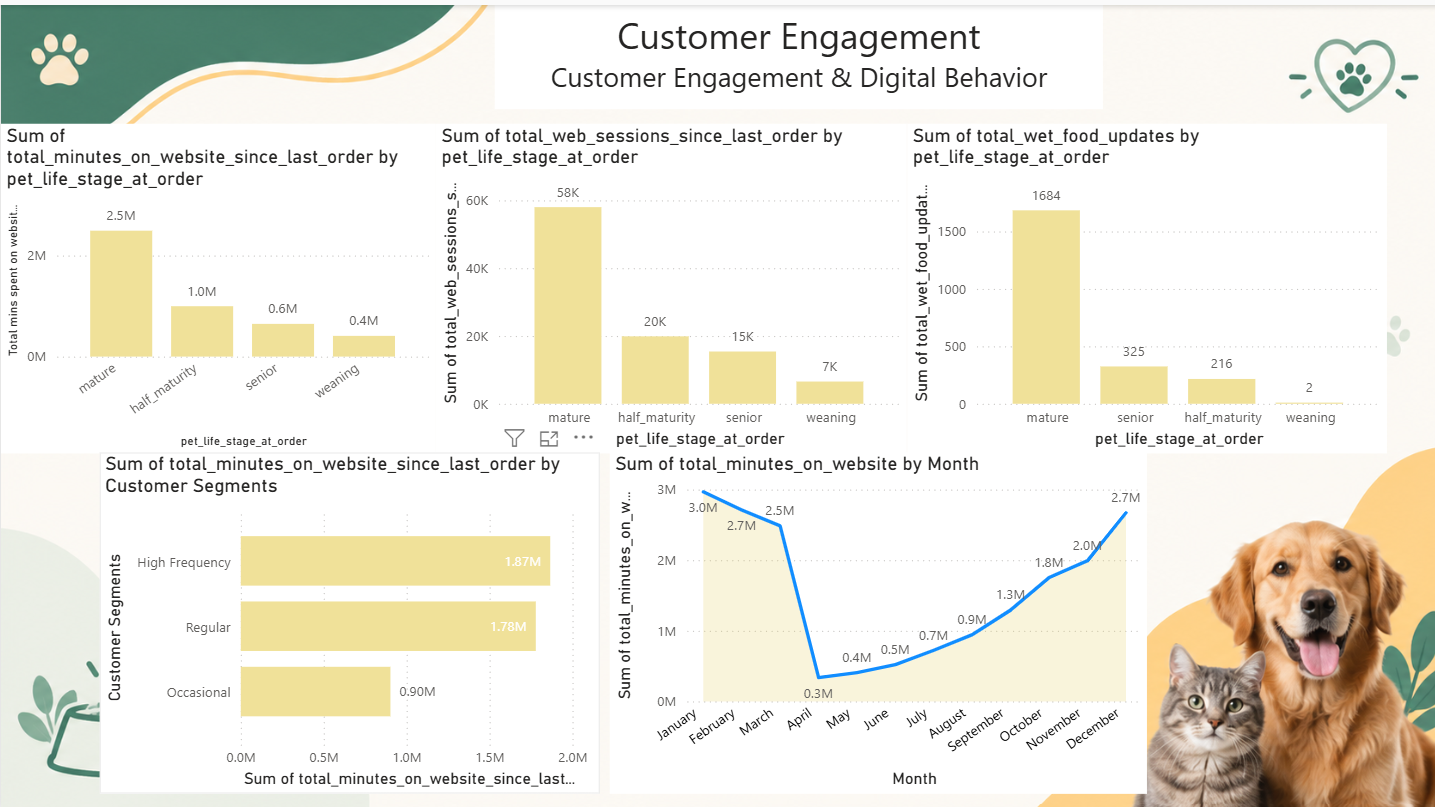

The page's visual inventory and layout, read from the dashboard file:
{"tool":"powerbi","page":{"name":"Page 4","canvas":[1280,720],"ordinal":3},"visuals":[{"type":"clusteredColumnChart","fields":{"Category":["pet_food_customer_orders_cleaned.pet_life_stage_at_order"],"Y":["Sum(pet_food_customer_orders_cleaned.total_minutes_on_website_since_last_order)"]},"box":[0,105.5,387.3,293.4],"z":0},{"type":"clusteredColumnChart","fields":{"Category":["pet_food_customer_orders_cleaned.pet_life_stage_at_order"],"Y":["Sum(pet_food_customer_orders_cleaned.total_web_sessions_since_last_order)"]},"box":[387.3,105.5,419.5,293.4],"z":1},{"type":"clusteredBarChart","fields":{"Category":["pet_food_customer_orders_cleaned.Customer Segments"],"Y":["Sum(pet_food_customer_orders_cleaned.total_minutes_on_website_since_last_order)"]},"box":[87.5,398.9,445.2,303.7],"z":2},{"type":"lineChart","fields":{"Category":["DateTable.Date.Variation.Date Hierarchy.Month"],"Y":["Sum(pet_food_customer_orders_cleaned.total_minutes_on_website)"]},"box":[541.7,398.9,478.7,303.7],"z":3},{"type":"clusteredColumnChart","fields":{"Category":["pet_food_customer_orders_cleaned.pet_life_stage_at_order"],"Y":["Sum(pet_food_customer_orders_cleaned.total_wet_food_updates)"]},"box":[806.8,105.5,427.2,293.4],"z":4},{"type":"textbox","box":[440,0,541.7,92.6],"z":5}]}

Visuals, with their boxes in screenshot pixels (x1, y1, x2, y2), scaled from the page's 1280x720 canvas onto the 1435x807 screenshot:
clusteredColumnChart - pet_food_customer_orders_cleaned.pet_life_stage_at_order x Sum(pet_food_customer_orders_cleaned.total_minutes_on_website_since_last_order): region(0, 118, 434, 447)
clusteredColumnChart - pet_food_customer_orders_cleaned.pet_life_stage_at_order x Sum(pet_food_customer_orders_cleaned.total_web_sessions_since_last_order): region(434, 118, 904, 447)
clusteredBarChart - pet_food_customer_orders_cleaned.Customer Segments x Sum(pet_food_customer_orders_cleaned.total_minutes_on_website_since_last_order): region(98, 447, 597, 787)
lineChart - DateTable.Date.Variation.Date Hierarchy.Month x Sum(pet_food_customer_orders_cleaned.total_minutes_on_website): region(607, 447, 1144, 787)
clusteredColumnChart - pet_food_customer_orders_cleaned.pet_life_stage_at_order x Sum(pet_food_customer_orders_cleaned.total_wet_food_updates): region(904, 118, 1383, 447)
textbox: region(493, 0, 1101, 104)
